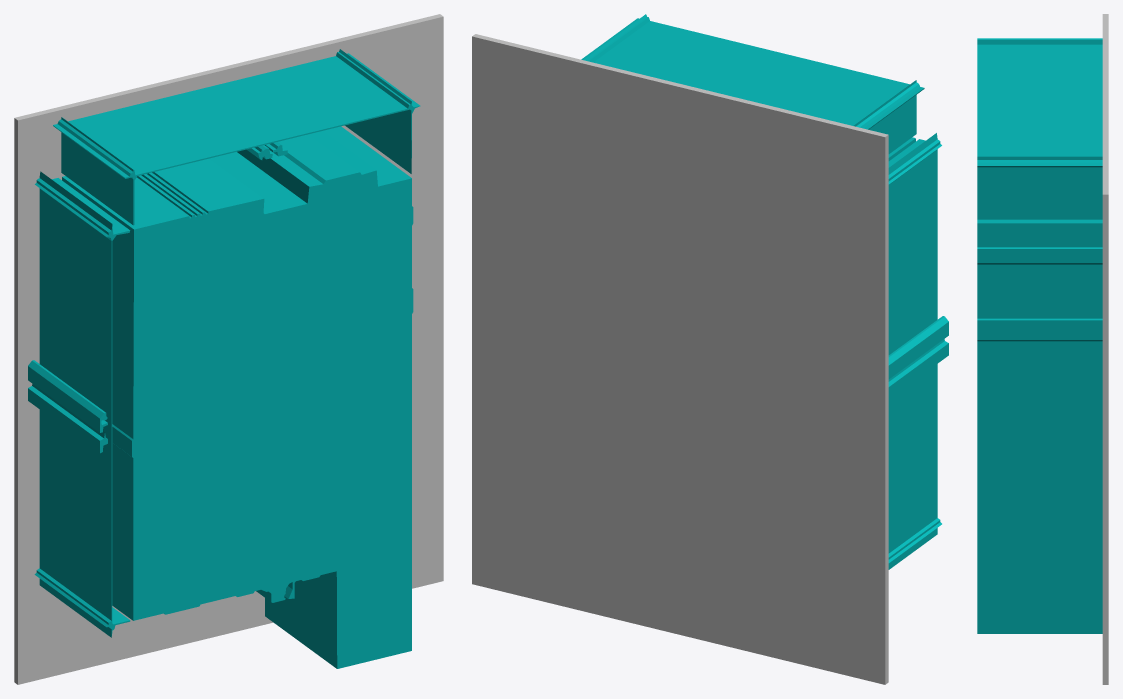
3 renders of one model, left to right at view 1: azimuth 30°, elevation 25°; view 2: azimuth 150°, elevation 25°; view 3: azimuth 270°, elevation 25°, orthographic. The views are drawn at different scales.
Parts seen in each view (by area): view 1: world; view 2: world; view 3: world.
Boxes of the visible parts, x1=… form: world: x1=14, y1=14, x2=443, y2=684; world: x1=472, y1=14, x2=948, y2=684; world: x1=977, y1=14, x2=1108, y2=684.
Bounding box in the file's own units: 10.23 × 12.96 × 3.15.
